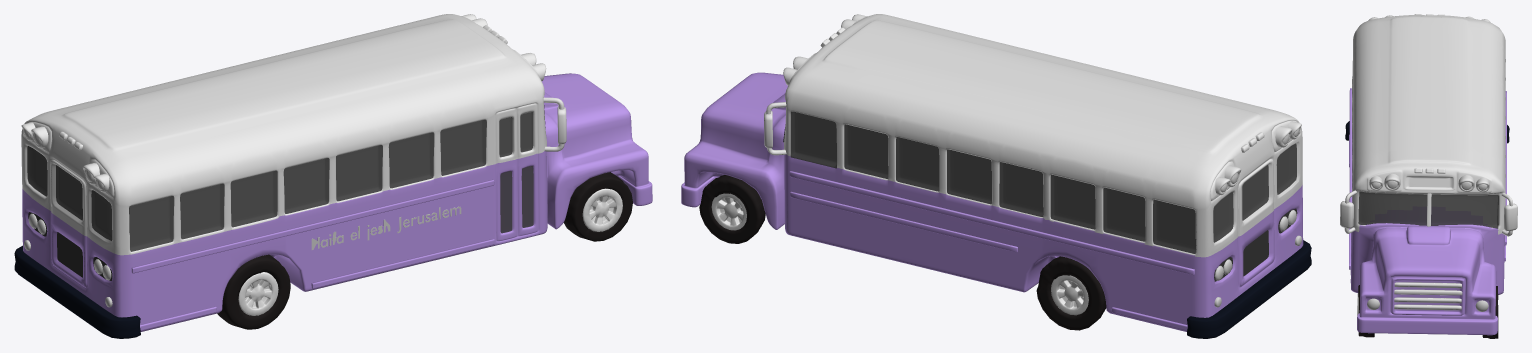
Rendered from Bus2.fbx.
3 renders of one model, left to right at view 1: azimuth 30°, elevation 25°; view 2: azimuth 150°, elevation 25°; view 3: azimuth 270°, elevation 25°, orthographic. The views are drawn at different scales.
Visible parts, largest first — view 1: bus, pCube16, pPipe1, pPipe2, pCube9, pCube11, pCube21, pCube10, pCube18, pCube8, pCube7, pCube15 (+3 smaller); view 2: bus, pPipe4, pCube16, pPipe3, pCube14, pCube9, pCube10, pCube11, pCube21, pCube18, pCube8, pCube7 (+1 smaller); view 3: bus, pCube19, pPipe3.
Boxes of the visible parts, x1,y1,x2,y2 form: bus: (14,14,652,338); pCube16: (27,146,112,240); pPipe1: (217,254,290,329); pPipe2: (563,172,632,241); pCube9: (230,170,277,227); pCube11: (336,145,382,201); pCube21: (440,119,486,175); pCube10: (283,158,329,213); pCube18: (388,132,434,188); pCube8: (129,196,174,251); pCube7: (180,183,224,239); pCube15: (500,166,533,233); bus: (681,14,1311,338); pPipe4: (1036,256,1106,330); pCube16: (1213,143,1296,242); pPipe3: (699,175,765,243); pCube14: (790,111,836,168); pCube9: (1050,174,1095,229); pCube10: (999,162,1043,216); pCube11: (947,149,991,204); pCube21: (844,124,888,178); pCube18: (896,137,939,191); pCube8: (1153,199,1195,253); pCube7: (1103,187,1145,241); bus: (1340,14,1517,335); pCube19: (1358,191,1498,228); pPipe3: (1482,286,1498,338).
Size of the model in its own units: 495 by 171 by 184.
